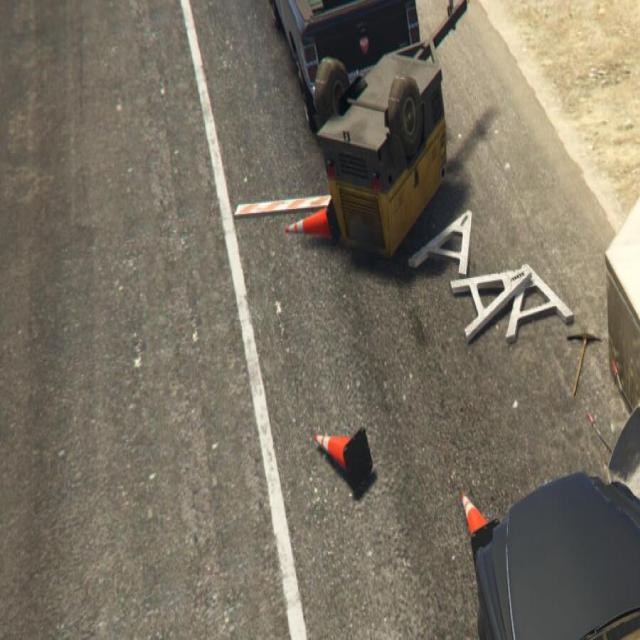car: (474, 473, 639, 639)
reflective_cone: (312, 423, 372, 492), (284, 196, 340, 245), (460, 491, 500, 552)
